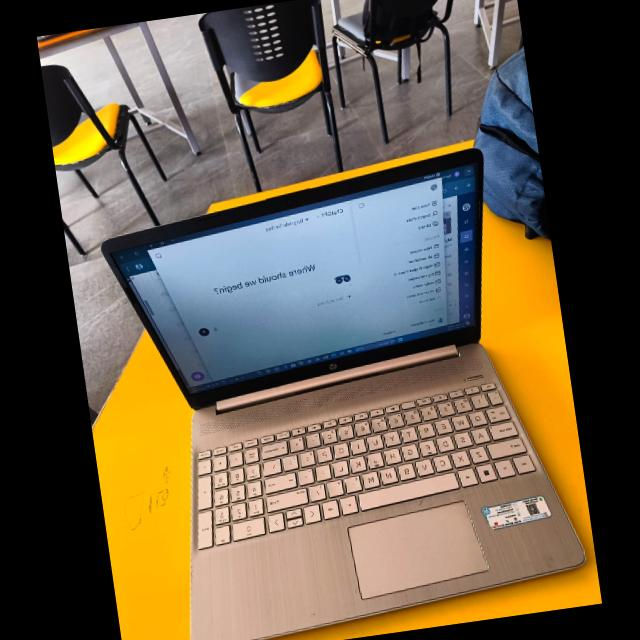laptop: (90, 107, 578, 640)
